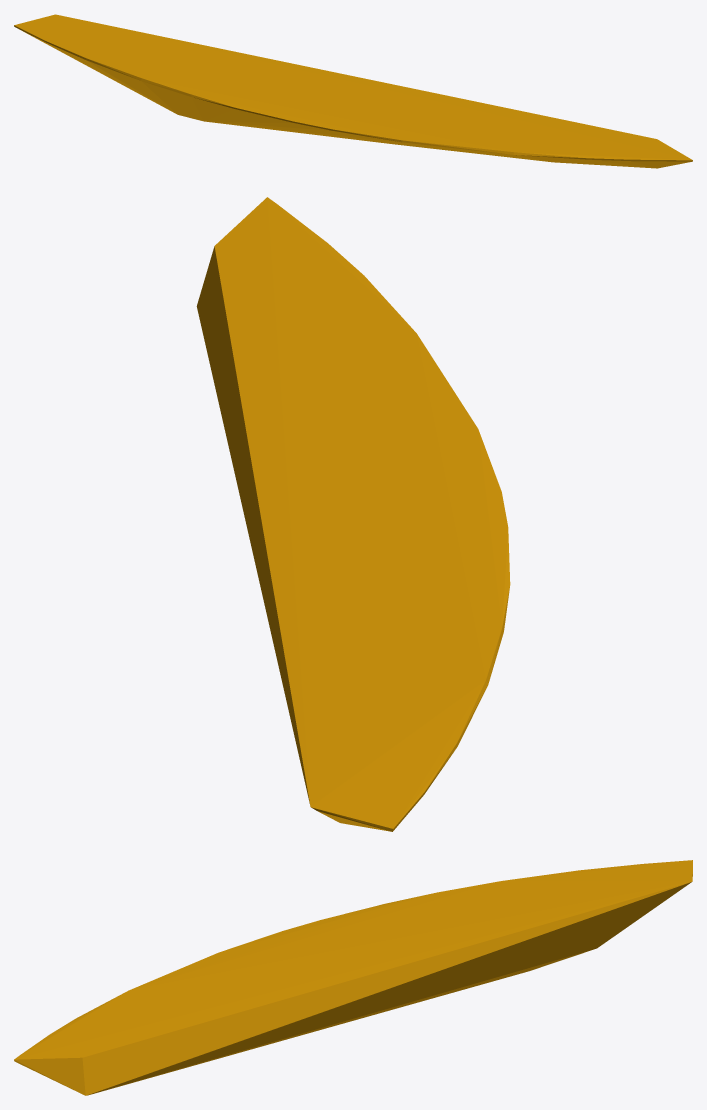
The model's file is convex_piece_018.obj.
3 views of the same model, one above another, from view 1: azimuth 30°, elevation 25°; view 2: azimuth 150°, elevation 25°; view 3: azimuth 270°, elevation 25° (orthographic). The views are drawn at different scales.
Bounding box in the file's own units: 0.0841 × 0.0125 × 0.1201.
